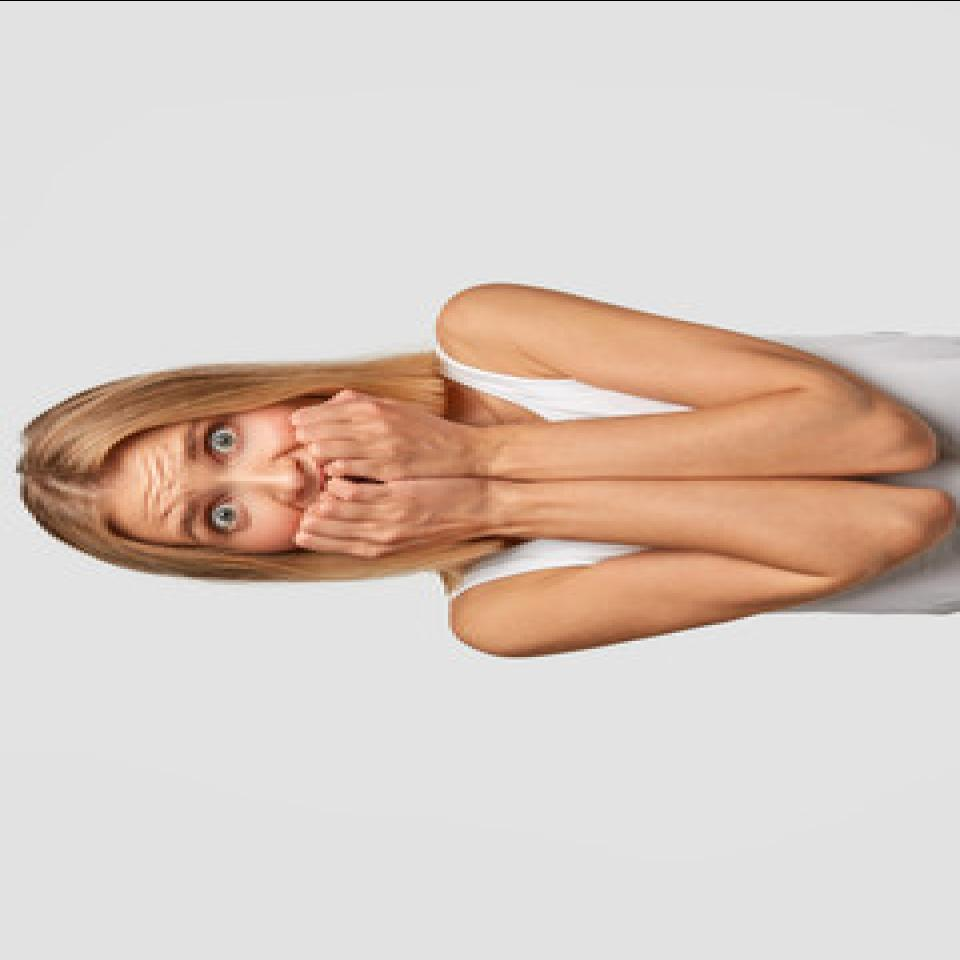Scared: (128, 389, 470, 557)
